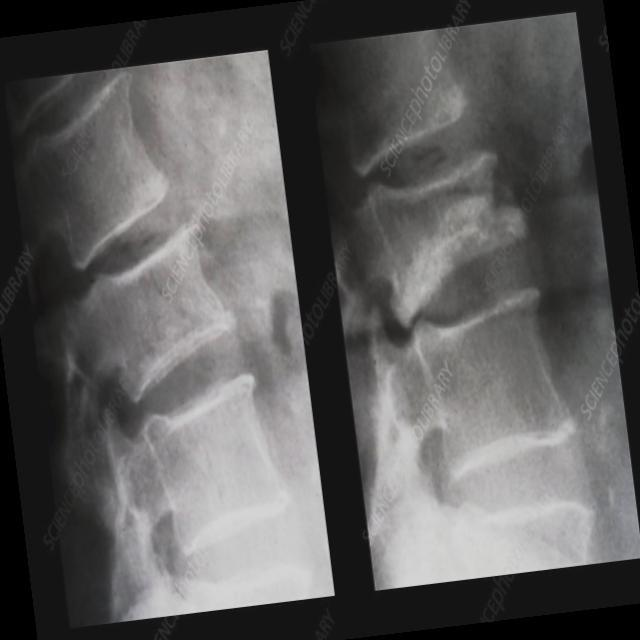Compression-Crush Fracutre: (348, 164, 522, 296)
